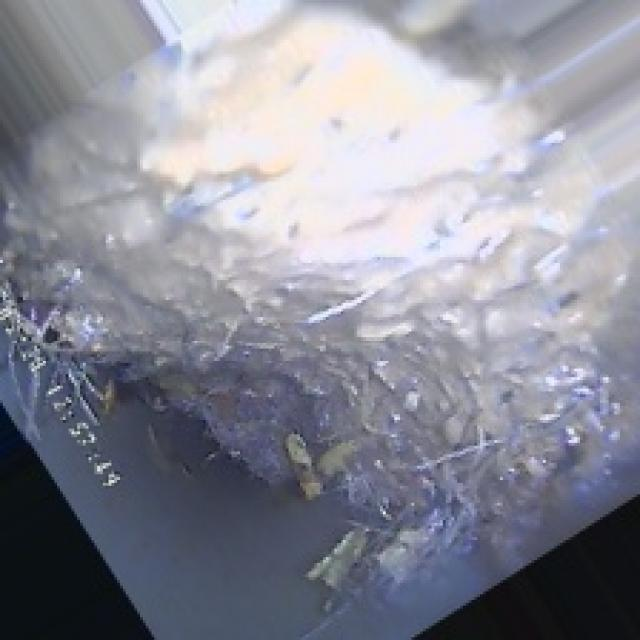sluge accumulation: (66, 63, 577, 523)
